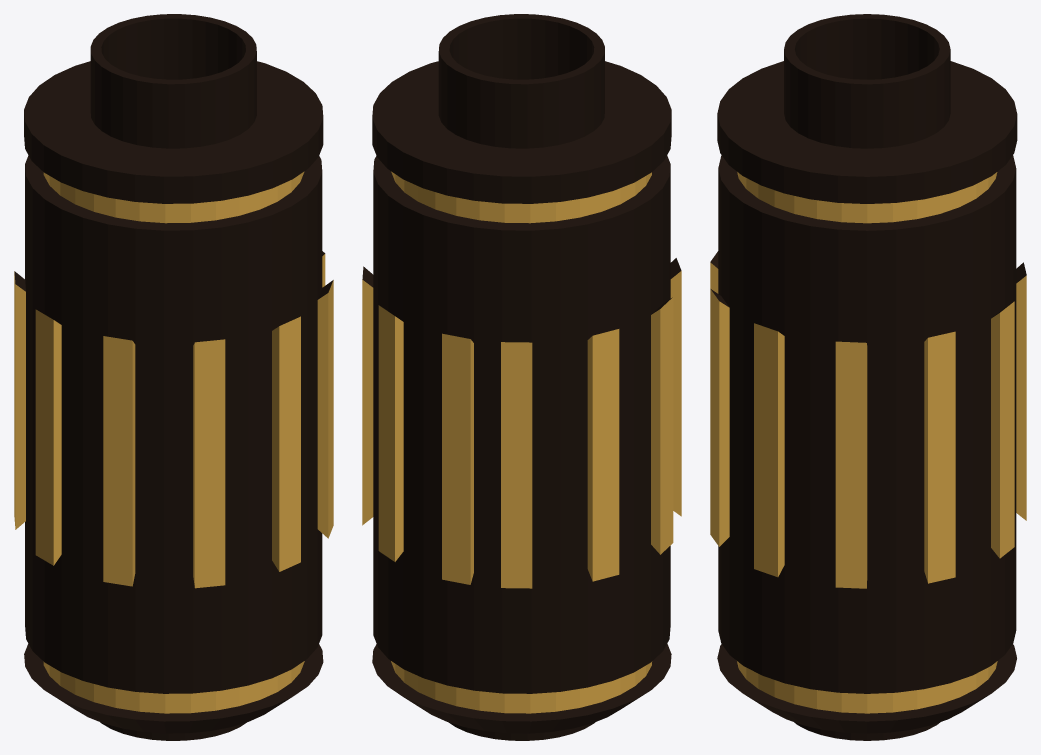
Rendered from pod_engine_1.glb.
The picture shows the model from 3 angles, left to right: view 1: azimuth 30°, elevation 25°; view 2: azimuth 150°, elevation 25°; view 3: azimuth 270°, elevation 25°; orthographic projection.
Parts seen in each view (by area): view 1: pod_engine_1; view 2: pod_engine_1; view 3: pod_engine_1.
Boxes of the visible parts, <box> form: pod_engine_1: <box>14,14,333,740</box>; pod_engine_1: <box>362,14,681,740</box>; pod_engine_1: <box>710,14,1026,740</box>.
Bounding box in the file's own units: 2.13 × 4.83 × 2.11.
1 material, 1 textured.
